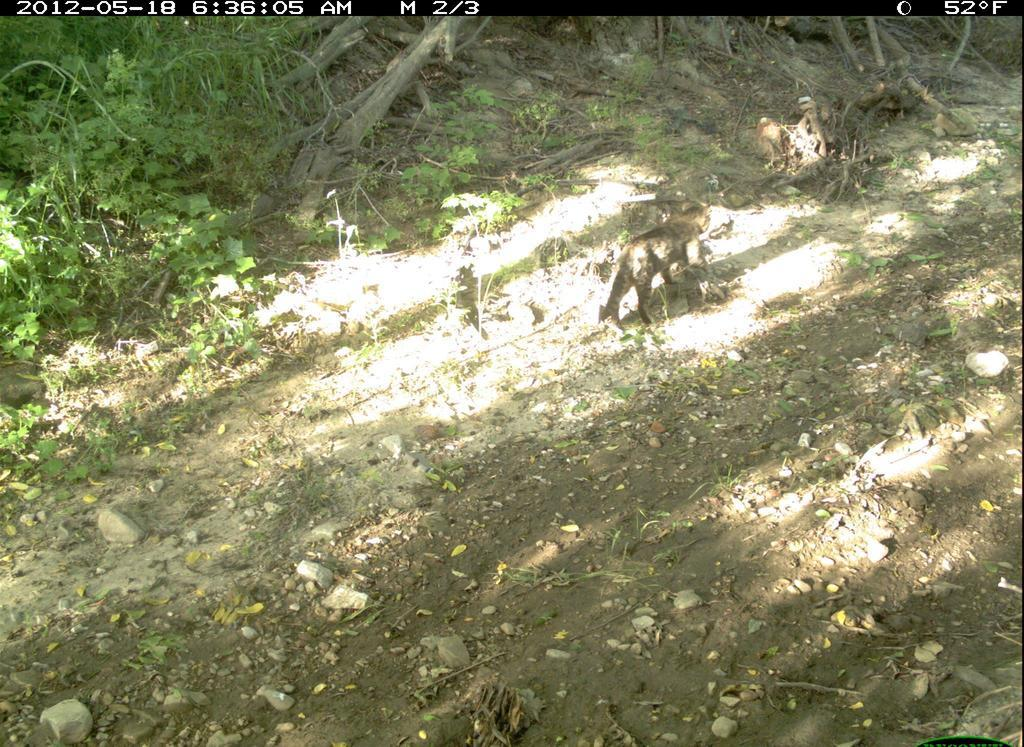cat: (597, 196, 734, 347)
